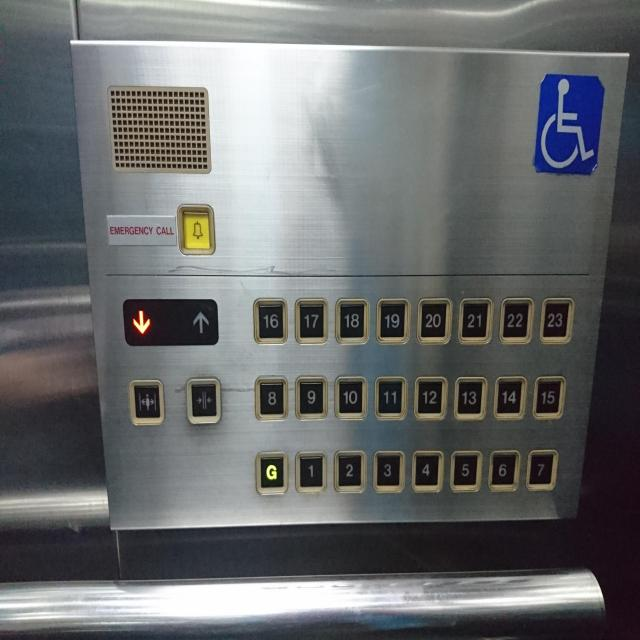1: (294, 449, 328, 493)
10: (333, 374, 367, 422)
11: (373, 374, 407, 420)
12: (413, 375, 448, 420)
13: (453, 376, 487, 420)
14: (493, 375, 527, 419)
15: (532, 375, 566, 419)
16: (254, 298, 288, 344)
17: (294, 297, 329, 344)
18: (336, 297, 369, 345)
19: (375, 297, 410, 344)
2: (333, 448, 367, 494)
20: (417, 297, 451, 344)
21: (457, 297, 493, 344)
22: (498, 296, 534, 343)
23: (538, 296, 576, 344)
3: (372, 449, 406, 492)
4: (410, 449, 444, 493)
5: (448, 449, 484, 492)
6: (486, 448, 522, 492)
7: (524, 448, 560, 491)
8: (255, 375, 289, 423)
9: (294, 374, 328, 420)
CH: (533, 74, 606, 178)
G: (254, 449, 289, 495)
alarm: (176, 204, 216, 256)
close: (186, 378, 222, 424)
open: (128, 380, 164, 426)
